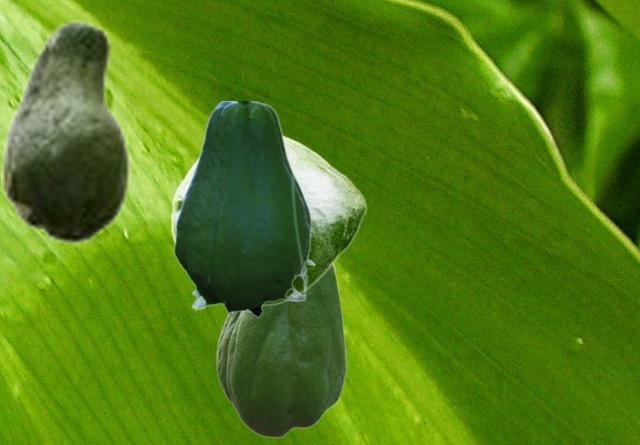sayote: (170, 133, 366, 305), (173, 101, 315, 321), (1, 20, 129, 244), (216, 264, 346, 437)
